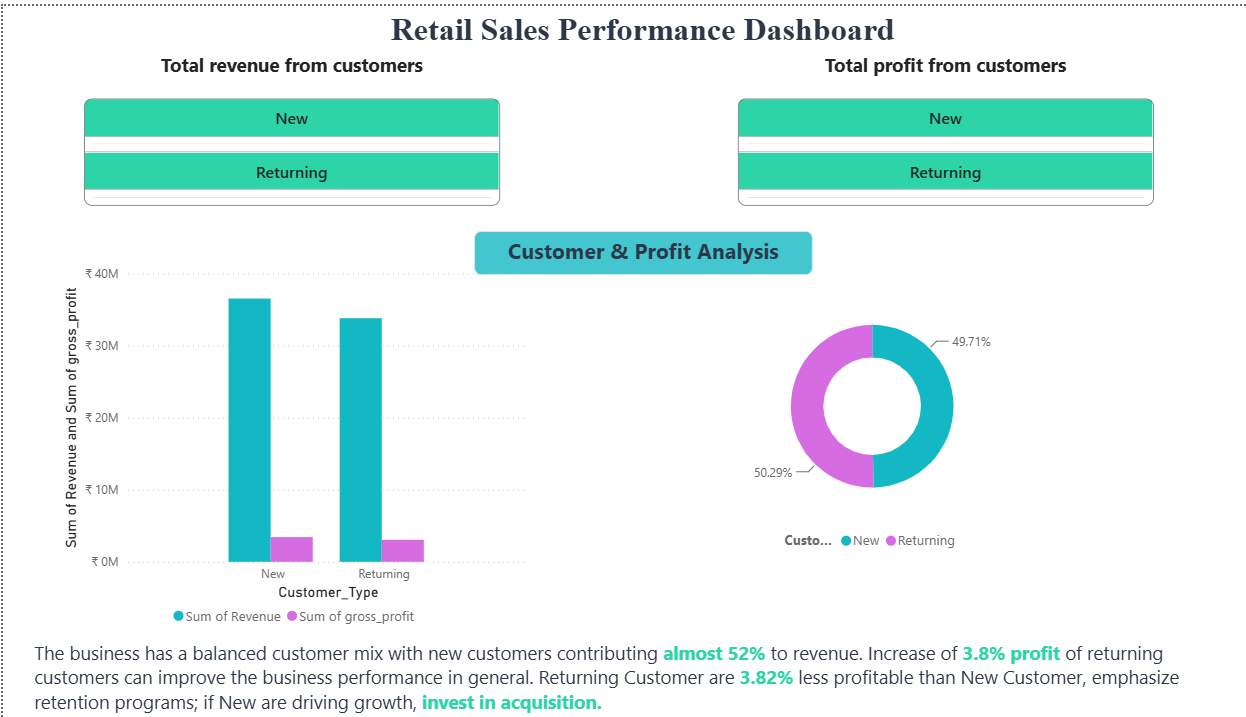

What the dashboard file says about the page in this screenshot:
{"tool":"powerbi","page":{"name":"Customer & Profitability","canvas":[1280,720],"ordinal":2},"visuals":[{"type":"textbox","box":[362.8,0,554.4,57.6],"z":0},{"type":"textbox","box":[470.6,225,338.8,43.8],"z":1000},{"type":"textbox","box":[26.2,628.8,1227.5,91.2],"z":3000},{"type":"clusteredColumnChart","fields":{"Category":["sale.Customer_Type"],"Y":["Sum(sale.Revenue)","Sum(sale.gross_profit)"]},"box":[55,253.1,475.7,375.4],"z":4000},{"type":"donutChart","fields":{"Series":["sale.Customer_Type"],"Y":["Sum(sale.Profit Margin)"]},"box":[727.6,276.4,283.7,277.6],"z":5000},{"type":"cardVisual","title":"Total revenue from customers","fields":{"Data":["Sum(sale.Revenue)"],"Rows":["sale.Customer_Type"]},"box":[78.8,43.8,420,178.8],"z":7000},{"type":"cardVisual","title":"Total profit from customers","fields":{"Rows":["sale.Customer_Type"],"Data":["Sum(sale.Profit )"]},"box":[732.5,43.8,420,178.8],"z":8000}]}

Visuals, with their boxes in screenshot pixels (x1, y1, x2, y2), scaled from the page's 1280x720 canvas onto the 1246x717 screenshot:
textbox: [353,0,893,57]
textbox: [458,224,788,268]
textbox: [26,626,1220,716]
clusteredColumnChart - sale.Customer_Type x Sum(sale.Revenue): [54,252,517,626]
donutChart - sale.Customer_Type x Sum(sale.Profit Margin): [708,275,984,552]
"Total revenue from customers" cardVisual: [77,44,486,222]
"Total profit from customers" cardVisual: [713,44,1122,222]
